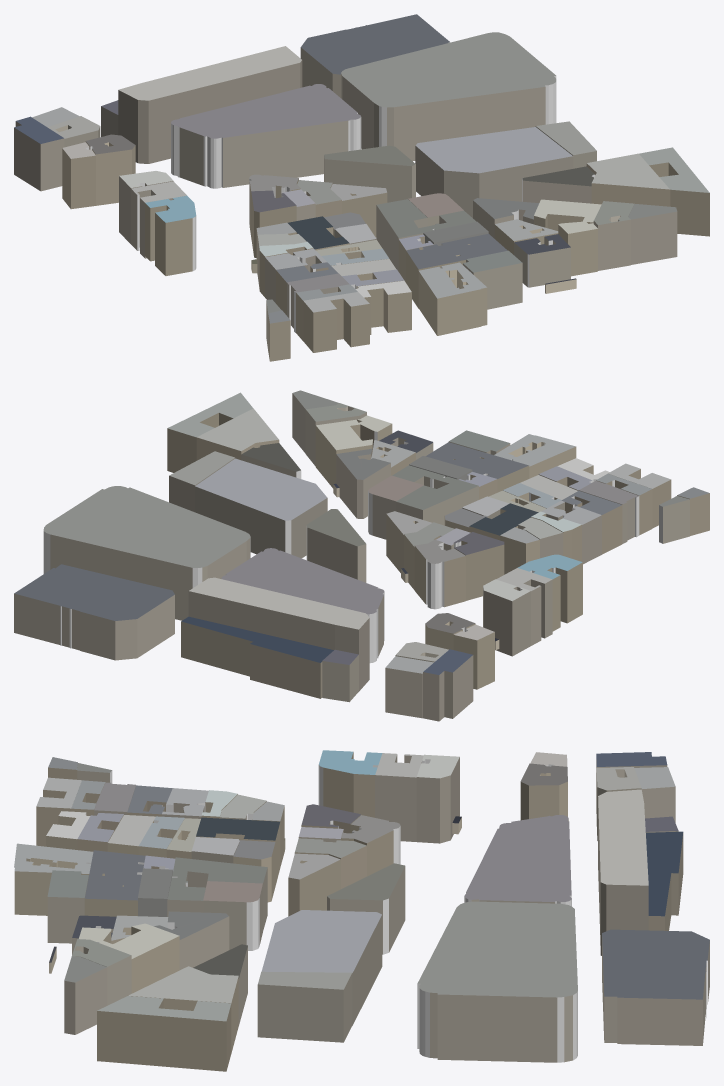
The picture shows the model from 3 angles, top to bottom: view 1: azimuth 30°, elevation 25°; view 2: azimuth 150°, elevation 25°; view 3: azimuth 270°, elevation 25°; orthographic projection. The views are drawn at different scales.
Parts seen in each view (by area): view 1: tuile; view 2: tuile; view 3: tuile.
Part boxes in pixels (<box>): tuile: <box>14,14,709,361</box>; tuile: <box>14,390,709,721</box>; tuile: <box>14,750,709,1071</box>.
Size of the model in its own units: 261 by 34.36 by 284.
